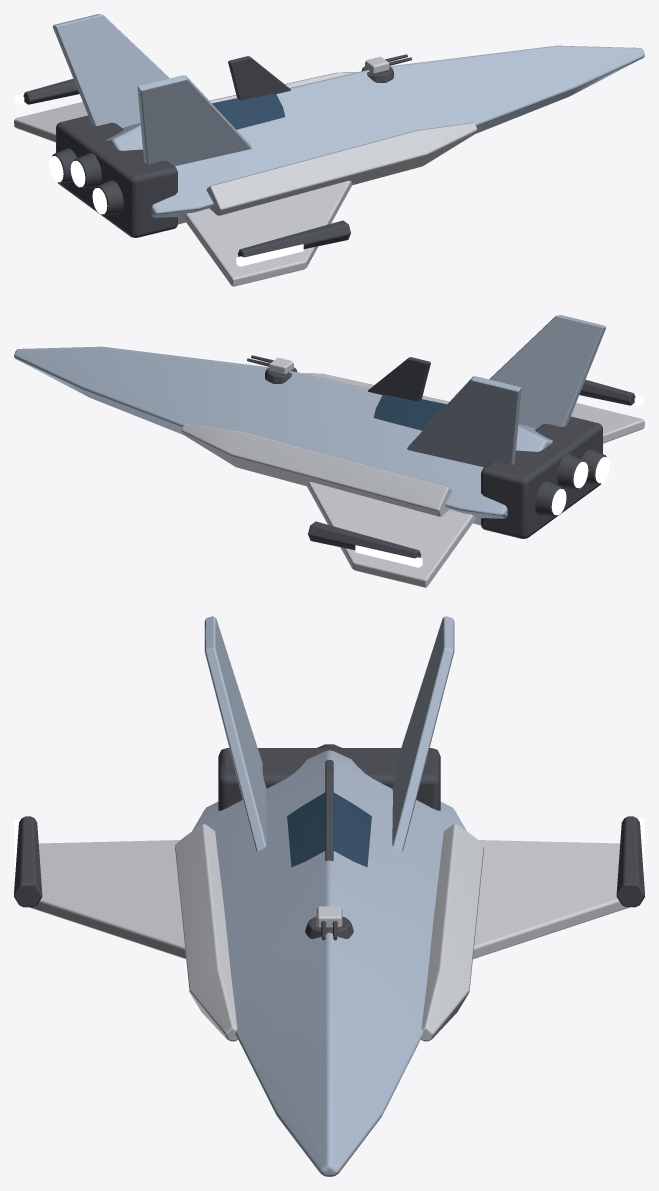
Rendered from angular_large.glb.
3 views of the same model, one above another, from view 1: azimuth 30°, elevation 25°; view 2: azimuth 150°, elevation 25°; view 3: azimuth 270°, elevation 25° (orthographic). The views are drawn at different scales.
Visible parts, largest first — view 1: angular_large; view 2: angular_large; view 3: angular_large.
Part boxes in pixels (<box>): angular_large: <box>14,14,644,286</box>; angular_large: <box>14,315,644,587</box>; angular_large: <box>14,616,644,1176</box>.
Size of the model in its own units: 2 by 0.5642 by 1.38.
